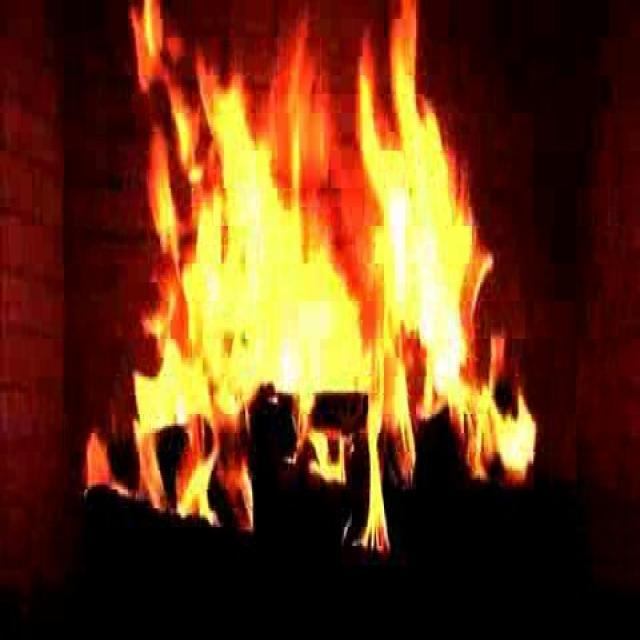Fire: (72, 0, 626, 541)
